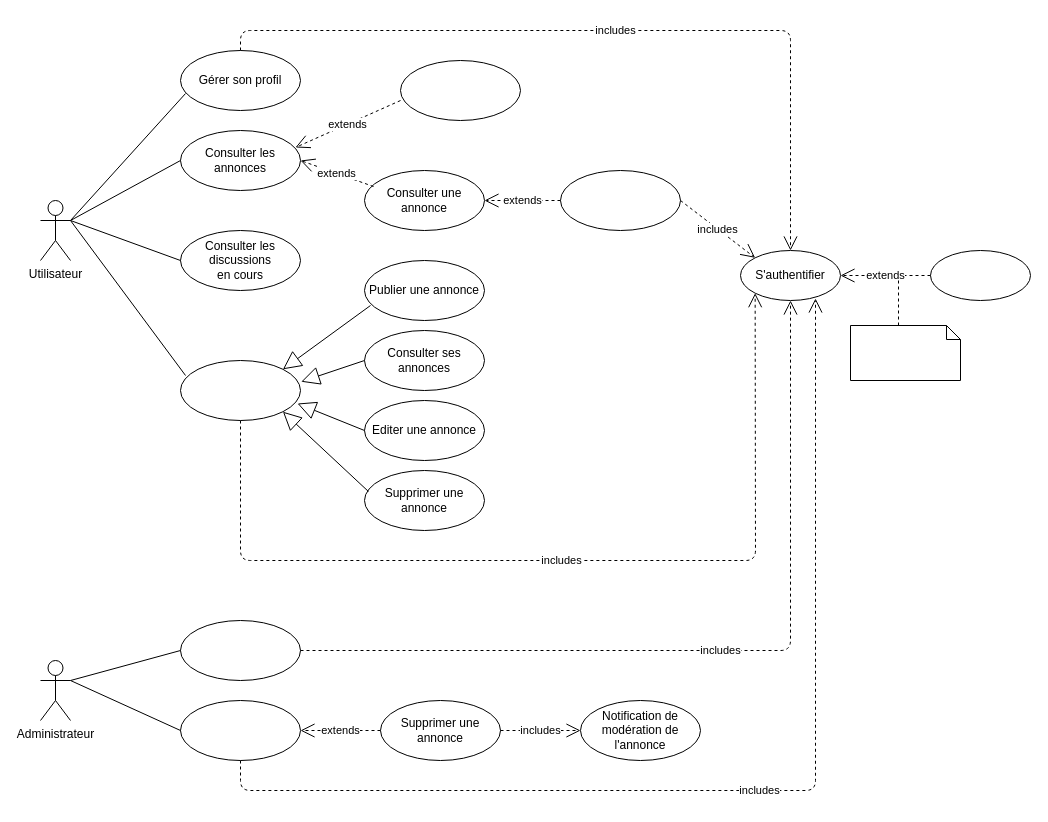
Some shapes in this 1048 by 822 pixel diagram are drawn without their labels. The shapes that lost their labels are listed below. From the top down, each one's box as (x1, y1, x2, y2) in pixels, then its label:
(400, 60, 520, 120): Filtrer la recherche
(560, 170, 680, 230): Contacter le vendeur
(930, 250, 1030, 300): S'inscrire
(850, 324, 960, 380): Si l'utilisateur n'a pas encore de compte
(180, 360, 300, 420): Gérer les annonces
(180, 620, 300, 680): Gérer les comptes utilisateurs
(180, 700, 300, 760): Contrôler les annonces
